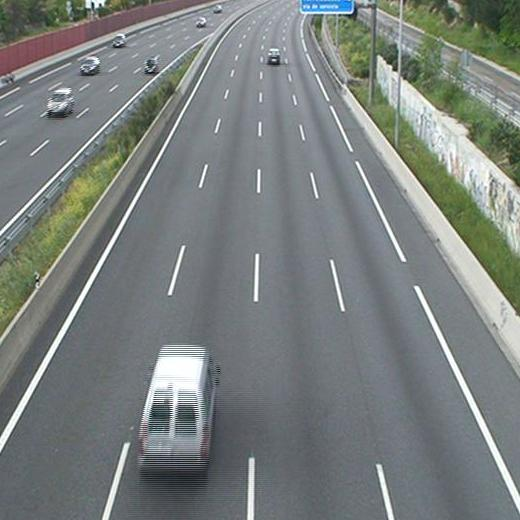car: (267, 48, 281, 66)
van: (138, 345, 214, 476)
